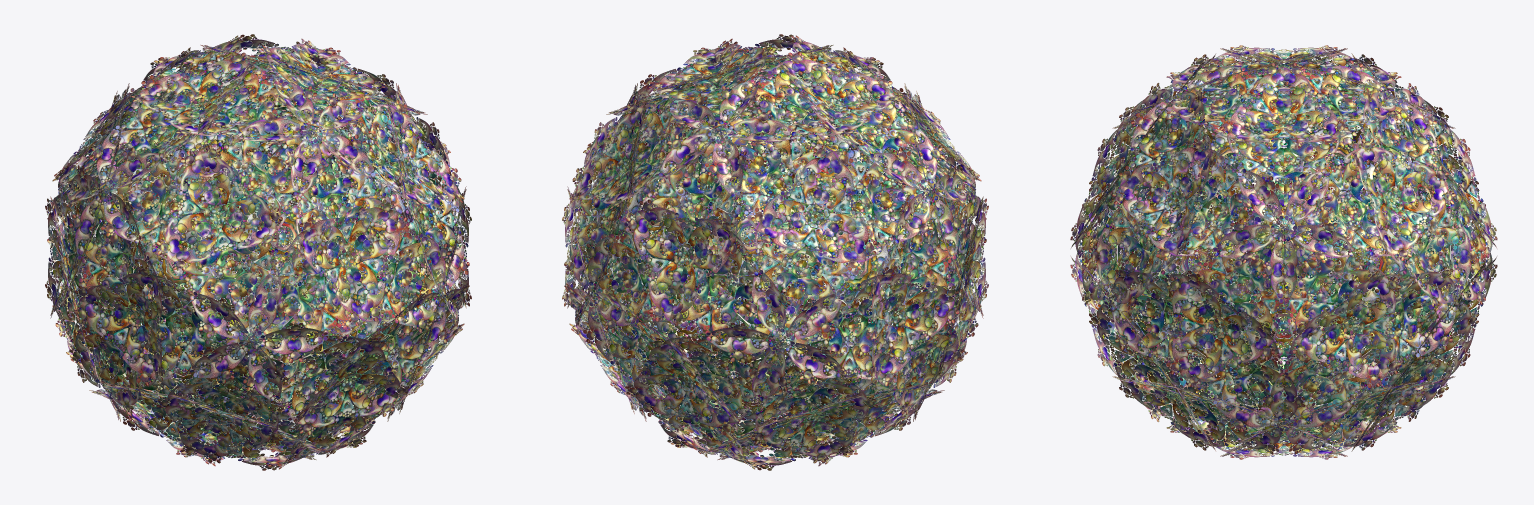
Rendered from GreatTruncatedIcosidodecahedron.gltf.
The picture shows the model from 3 angles, left to right: view 1: azimuth 30°, elevation 25°; view 2: azimuth 150°, elevation 25°; view 3: azimuth 270°, elevation 25°; orthographic projection. The views are drawn at different scales.
Visible parts, largest first — view 1: 1GreatTruncatedIcosidodecahedron; view 2: 1GreatTruncatedIcosidodecahedron; view 3: 1GreatTruncatedIcosidodecahedron.
Boxes of the visible parts, x1,y1,x2,y2 form: 1GreatTruncatedIcosidodecahedron: (45,34,471,470); 1GreatTruncatedIcosidodecahedron: (562,34,988,470); 1GreatTruncatedIcosidodecahedron: (1070,45,1497,459).
Bounding box in the file's own units: 2 × 2 × 2.
Materials: 1 (1 with a texture image).
